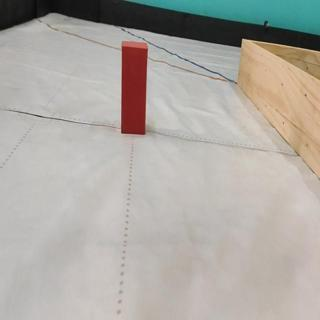redbox: (121, 39, 148, 134), (146, 134, 150, 134)
